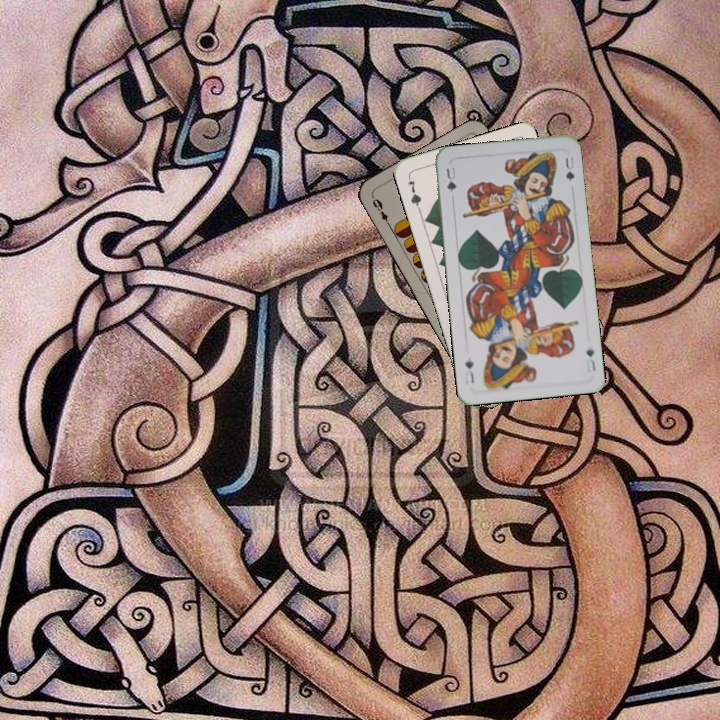E9: (368, 194, 394, 230)
G7: (404, 172, 424, 212)
GU: (442, 163, 459, 196), (582, 344, 598, 374)
